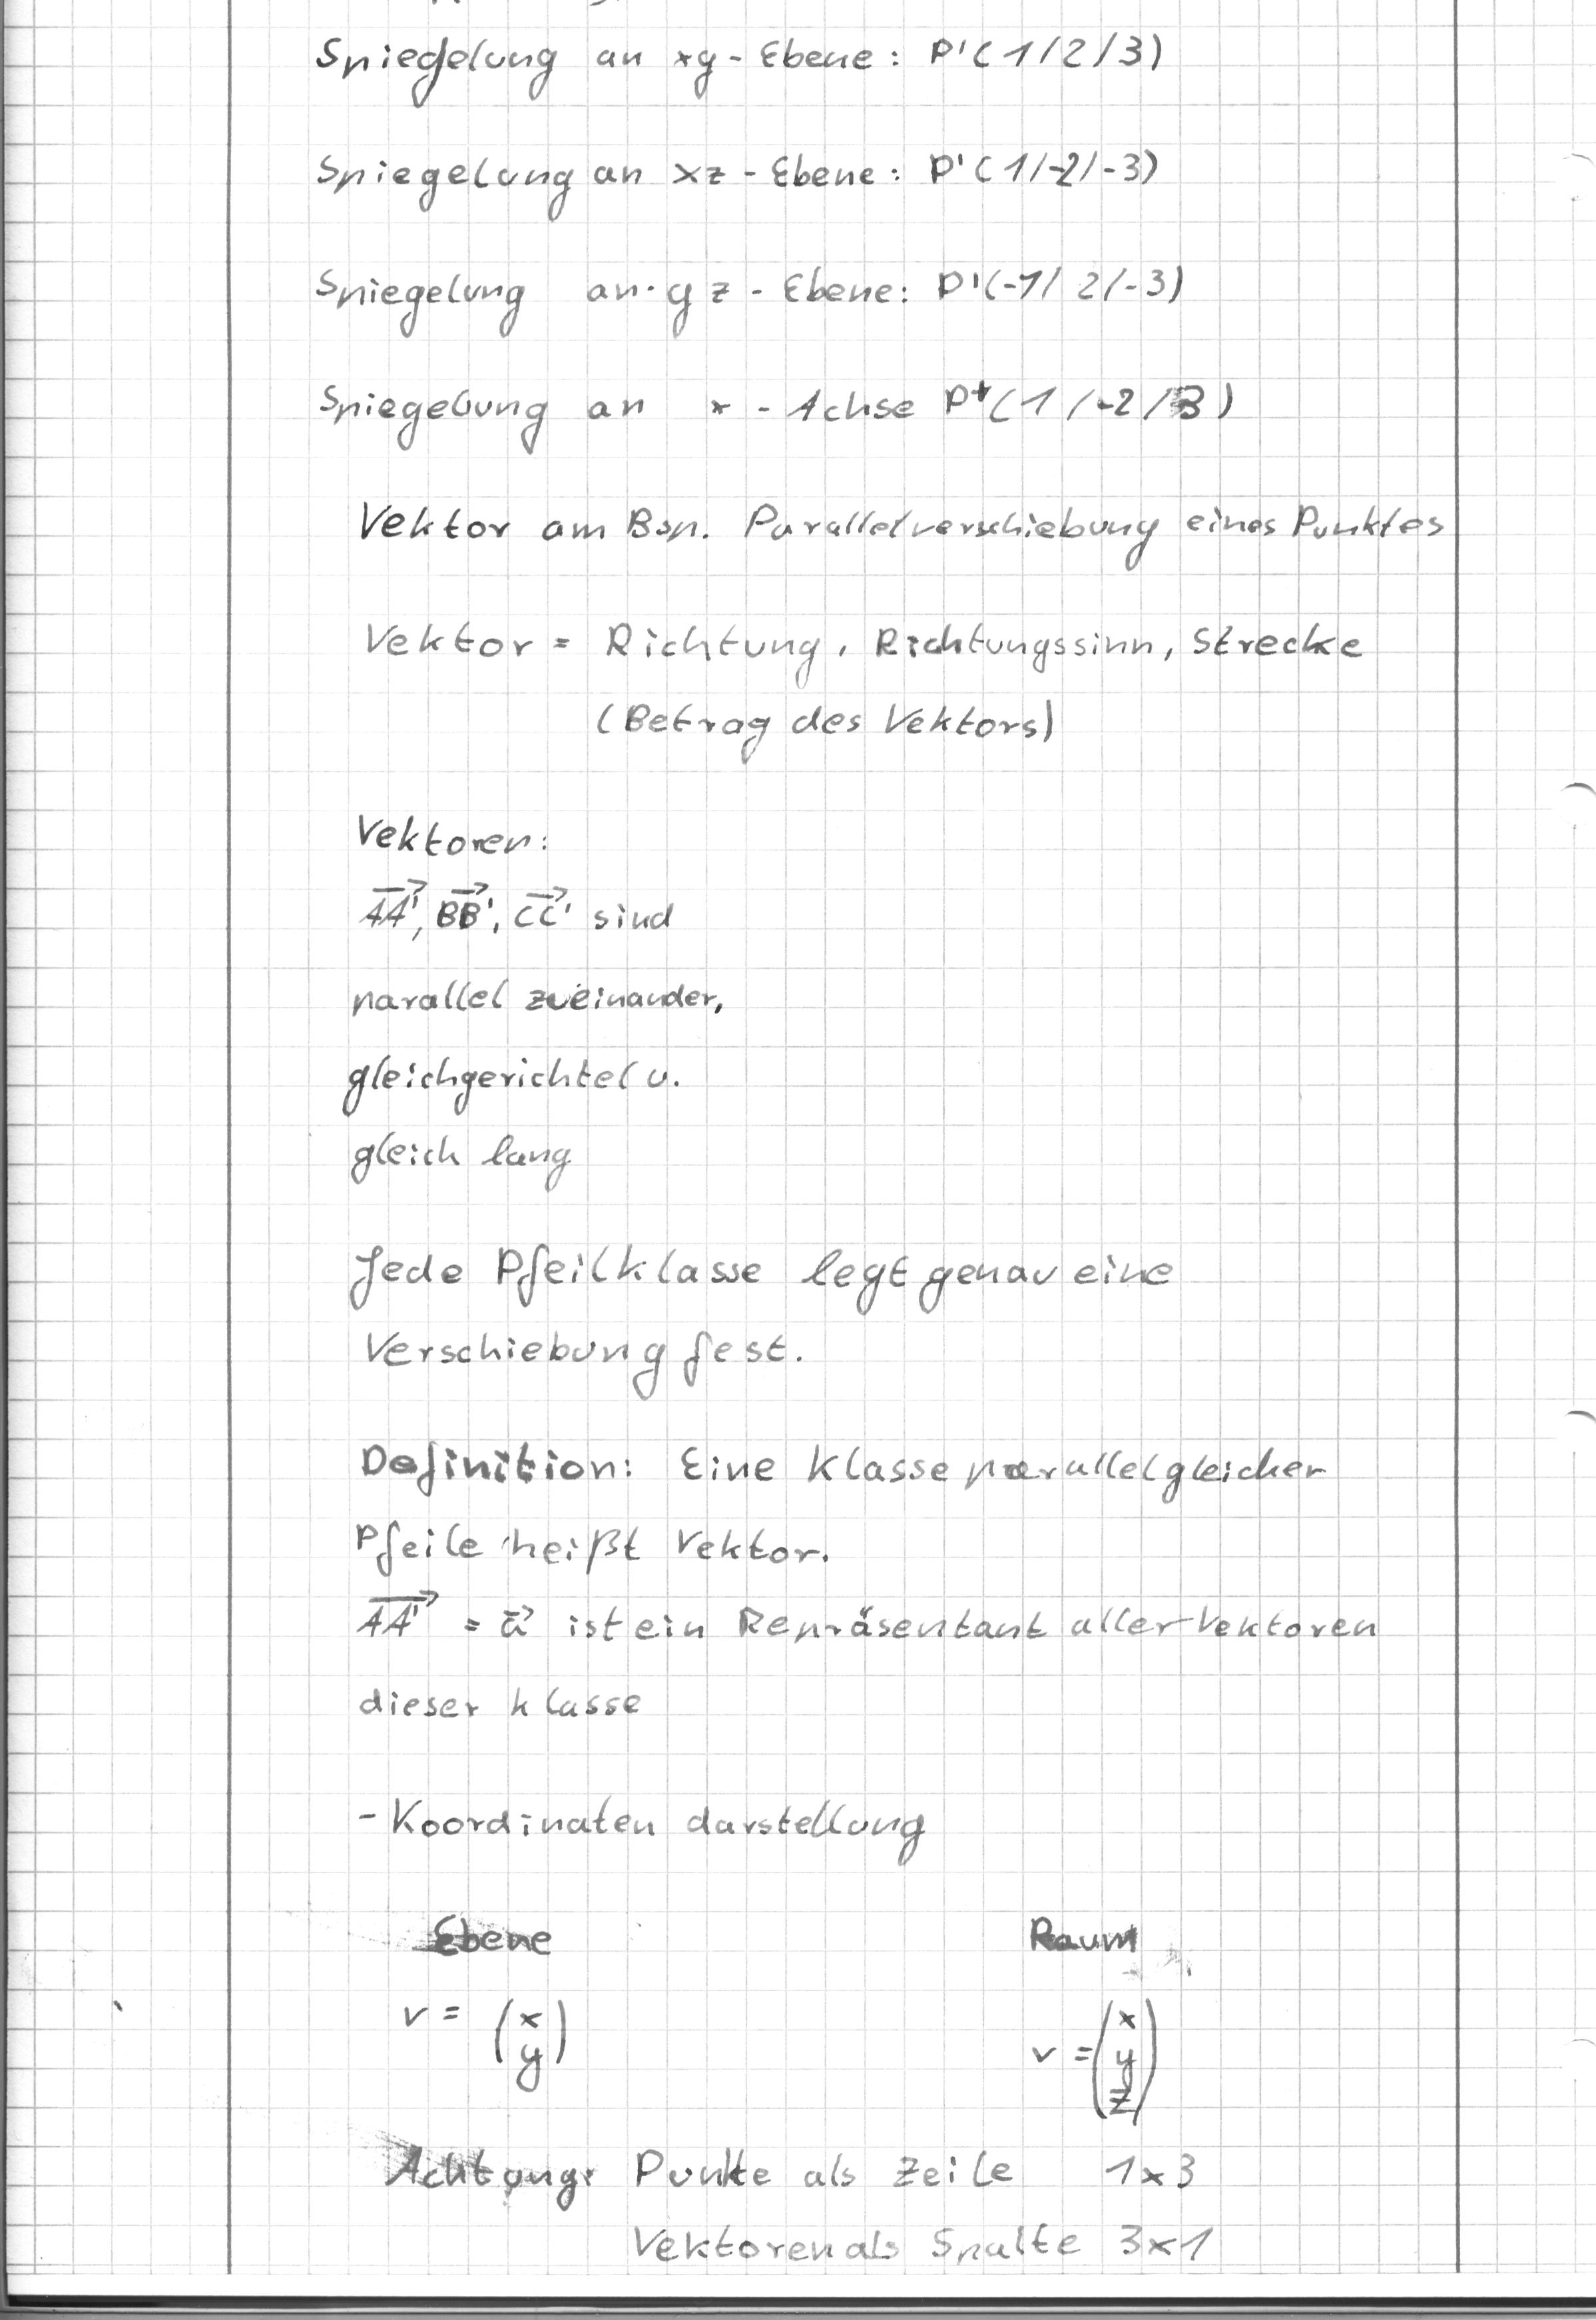word: (306, 21, 1246, 467), (348, 1514, 1388, 1739), (360, 599, 1371, 779), (342, 1228, 1187, 1416), (337, 803, 732, 1203), (352, 484, 1461, 583), (623, 2134, 1225, 2279), (345, 1769, 955, 1885), (671, 1432, 1340, 1510), (390, 1972, 594, 2111), (1011, 1982, 1177, 2129)
